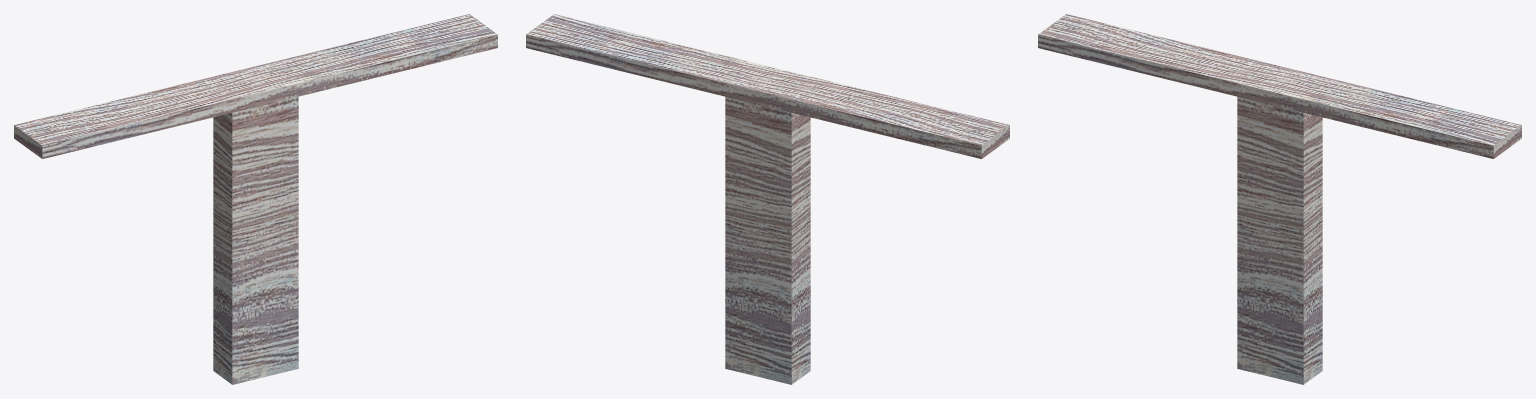
The model's file is Sword aud Hand.obj.
The picture shows the model from 3 angles, left to right: view 1: azimuth 30°, elevation 25°; view 2: azimuth 150°, elevation 25°; view 3: azimuth 330°, elevation 25°; orthographic projection.
Visible parts, largest first — view 1: Handle1; view 2: Handle1; view 3: Handle1.
Part boxes in pixels (bbox=[...]): Handle1: bbox=[14, 14, 497, 384]; Handle1: bbox=[526, 14, 1009, 384]; Handle1: bbox=[1038, 14, 1521, 384].
Bounding box in the file's own units: 2.69 × 1.64 × 0.289.
